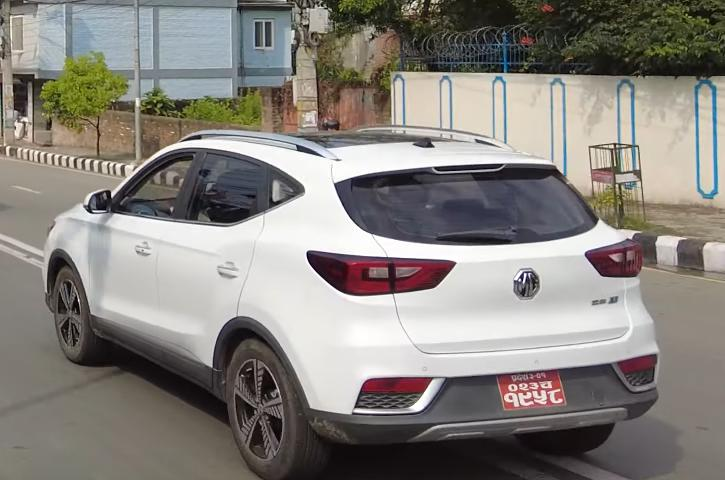car: (47, 122, 660, 480)
